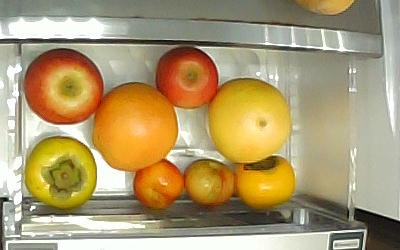apple: (23, 46, 104, 124), (154, 45, 219, 109)
grapefruit: (90, 80, 179, 172), (206, 76, 291, 163)
persimmon: (23, 134, 97, 209), (234, 154, 296, 207)
prune: (131, 156, 184, 209), (182, 156, 235, 207)
